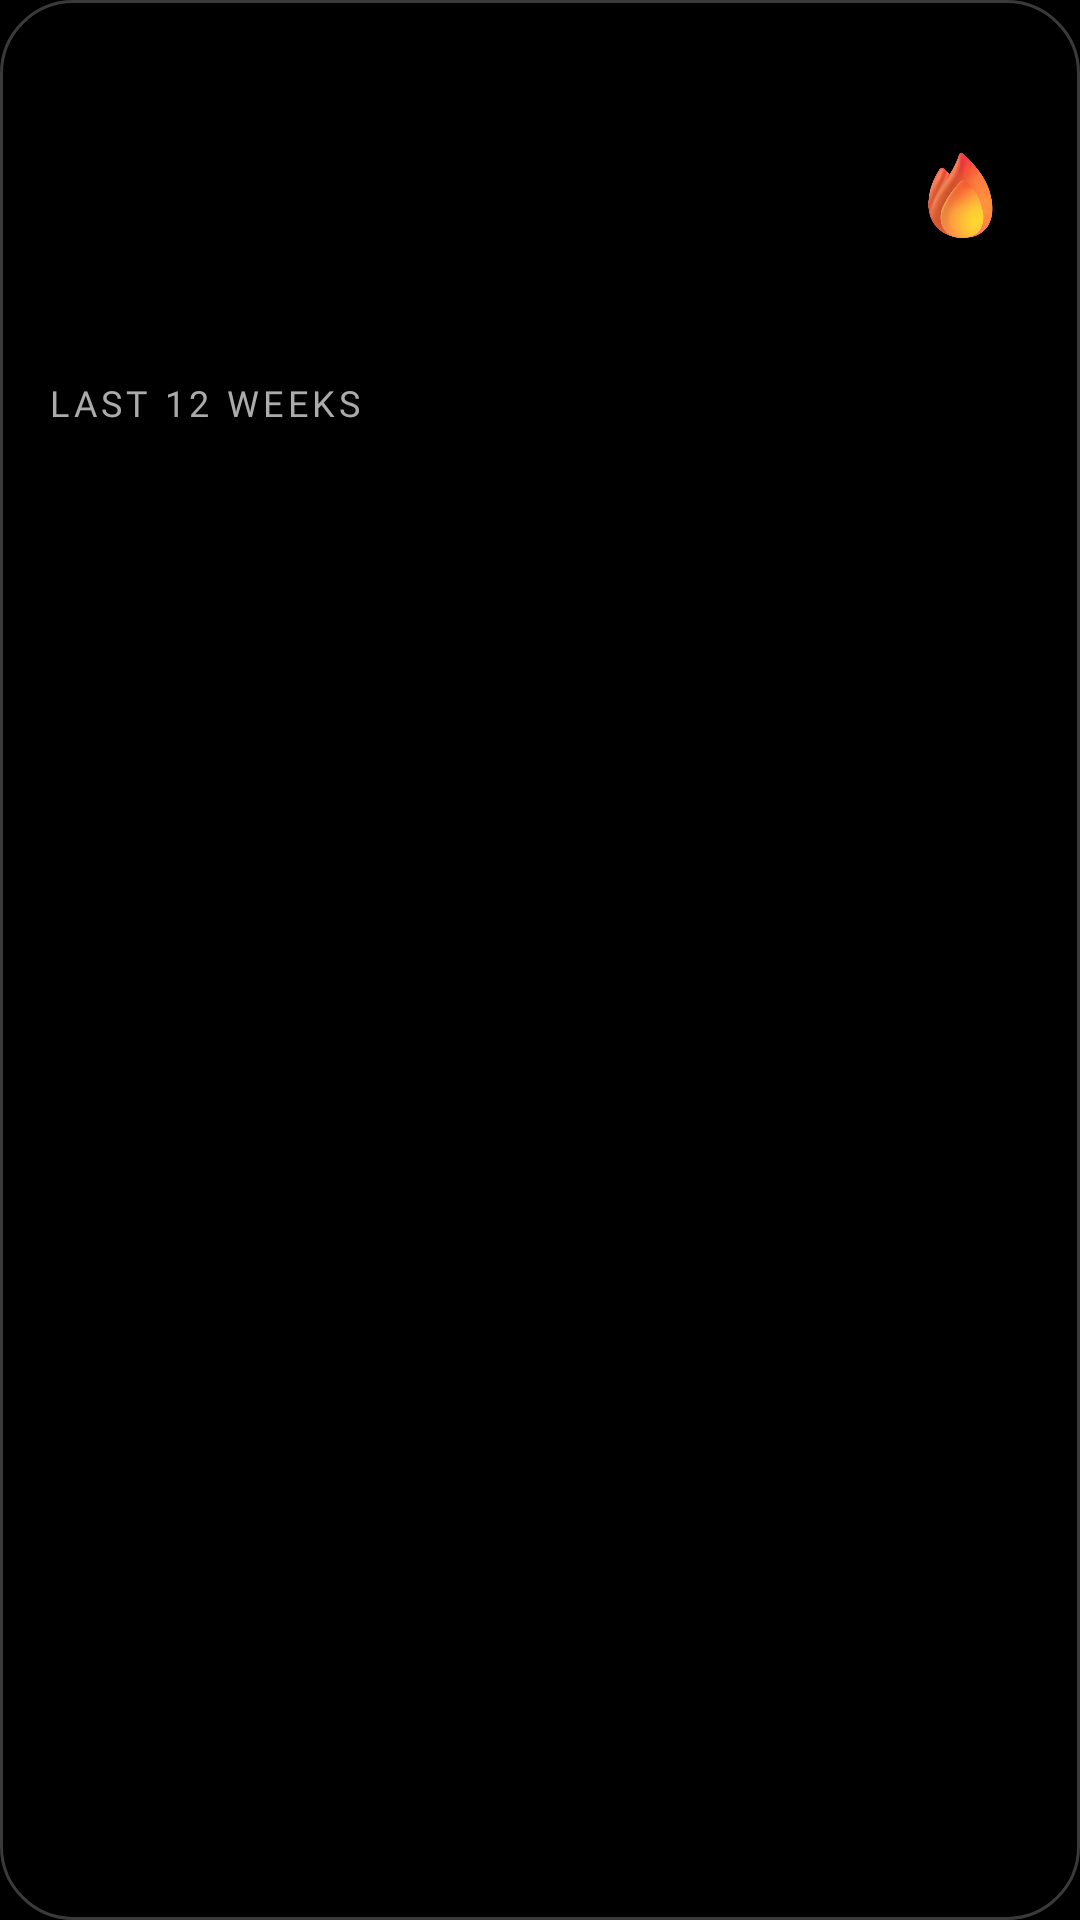

Icons on this 1080x1920 Android screen, each with the point to tap as [x,y]:
fire: [960,195]
